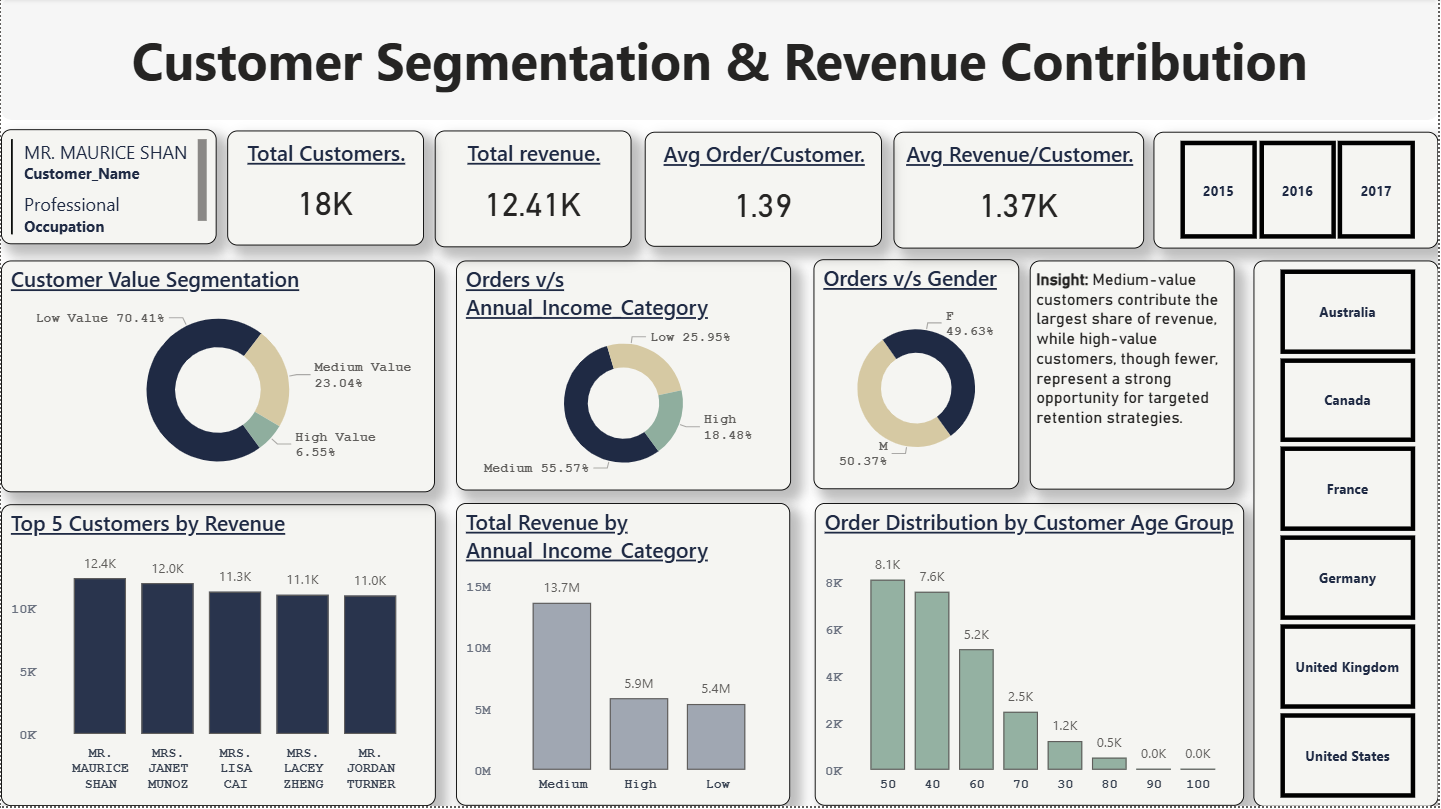

The page's visual inventory and layout, read from the dashboard file:
{"tool":"powerbi","page":{"name":"Customer","canvas":[1280,720],"ordinal":2},"visuals":[{"type":"pieChart","title":"Orders v/s Gender","fields":{"Y":["Sales.Total Orders"],"Category":["Customers.Gender"]},"box":[723.9,232.8,183.4,205.1],"z":0},{"type":"pieChart","title":" Orders v/s Annual_Income_Category","fields":{"Y":["Sales.Total Orders"],"Category":["Customers.Annual_Income_Category"]},"box":[405.3,233.2,298.7,204.8],"z":1000},{"type":"multiRowCard","fields":{"Values":["Customers.Customer_Name","Customers.Occupation"]},"box":[0,117,191.8,102.5],"z":2000},{"type":"card","title":"Total revenue.","fields":{"Values":["Sales.Total Revenue"]},"box":[386.1,118.2,174.9,103.8],"z":3000},{"type":"clusteredColumnChart","fields":{"Y":["Sales.Total Revenue"],"Category":["Customers.Annual_Income_Category"]},"box":[405.4,450.1,297.2,269.8],"z":4000},{"type":"clusteredColumnChart","title":"Order Distribution by Customer Age Group","fields":{"Category":["Customers.Age (bins)"],"Y":["Sales.Total Orders"]},"box":[724.3,450.1,382.3,269.8],"z":5000},{"type":"card","title":"Total Customers.","fields":{"Values":["Sales.Total Customers"]},"box":[201.5,118.2,174.9,102.5],"z":6000},{"type":"card","title":"Avg Revenue/Customer.","fields":{"Values":["Sales.ARPC"]},"box":[795,119.4,223.2,103.8],"z":7000},{"type":"card","title":"Avg Order/Customer.","fields":{"Values":["Sales.Avg Orders per Customer"]},"box":[573.1,119.4,211.1,102.5],"z":8000},{"type":"slicer","fields":{"Values":["Calender_Table.Year"]},"box":[1026.7,119.4,253.4,103.8],"z":9000},{"type":"slicer","fields":{"Values":["Region.Country"]},"box":[1115.3,233.7,164.5,486.2],"z":10000},{"type":"shape","box":[0,0,1280,108.6],"z":11000},{"type":"clusteredColumnChart","title":"Top 5 Customers by Revenue","fields":{"Category":["Customers.Customer_Name"],"Y":["Sales.Total Revenue"]},"box":[0,450.8,386.8,268.8],"z":12000},{"type":"donutChart","title":"Customer Value Segmentation","fields":{"Y":["Customer Segments.Customers by Segment"],"Category":["Customer Segments.Segment"]},"box":[0,233.7,386.7,206.3],"z":13000},{"type":"textbox","box":[915.7,234,182.2,203.9],"z":13001}]}

Visuals, with their boxes in screenshot pixels (x1, y1, x2, y2), scaled from the page's 1280x720 canvas onto the 1441x809 screenshot:
"Orders v/s Gender" pieChart: <region>815, 262, 1021, 492</region>
" Orders v/s Annual_Income_Category" pieChart: <region>456, 262, 793, 492</region>
multiRowCard - Customers.Customer_Name x Customers.Occupation: <region>0, 131, 216, 247</region>
"Total revenue." card: <region>435, 133, 632, 249</region>
clusteredColumnChart - Sales.Total Revenue x Customers.Annual_Income_Category: <region>456, 506, 791, 808</region>
"Order Distribution by Customer Age Group" clusteredColumnChart: <region>815, 506, 1246, 808</region>
"Total Customers." card: <region>227, 133, 424, 248</region>
"Avg Revenue/Customer." card: <region>895, 134, 1146, 251</region>
"Avg Order/Customer." card: <region>645, 134, 883, 249</region>
slicer - Calender_Table.Year: <region>1156, 134, 1440, 251</region>
slicer - Region.Country: <region>1256, 263, 1440, 808</region>
shape: <region>0, 0, 1440, 122</region>
"Top 5 Customers by Revenue" clusteredColumnChart: <region>0, 507, 435, 808</region>
"Customer Value Segmentation" donutChart: <region>0, 263, 435, 494</region>
textbox: <region>1031, 263, 1236, 492</region>
